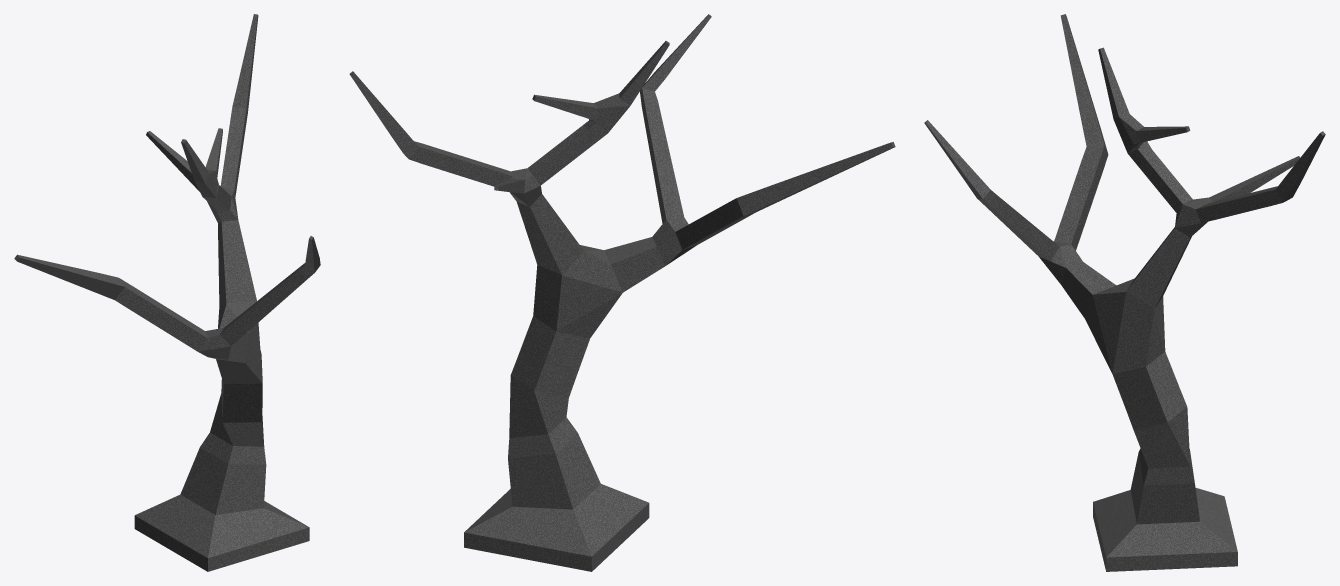
Rendered from Tree.fbx.
3 renders of one model, left to right at view 1: azimuth 30°, elevation 25°; view 2: azimuth 150°, elevation 25°; view 3: azimuth 270°, elevation 25°, orthographic. The views are drawn at different scales.
Parts seen in each view (by area): view 1: Cube.011; view 2: Cube.011; view 3: Cube.011.
Boxes of the visible parts, x1,y1,x2,y2 form: Cube.011: (14,14,320,571); Cube.011: (349,14,895,571); Cube.011: (924,14,1325,571).
Bounding box in the file's own units: 227 × 261 × 205.
